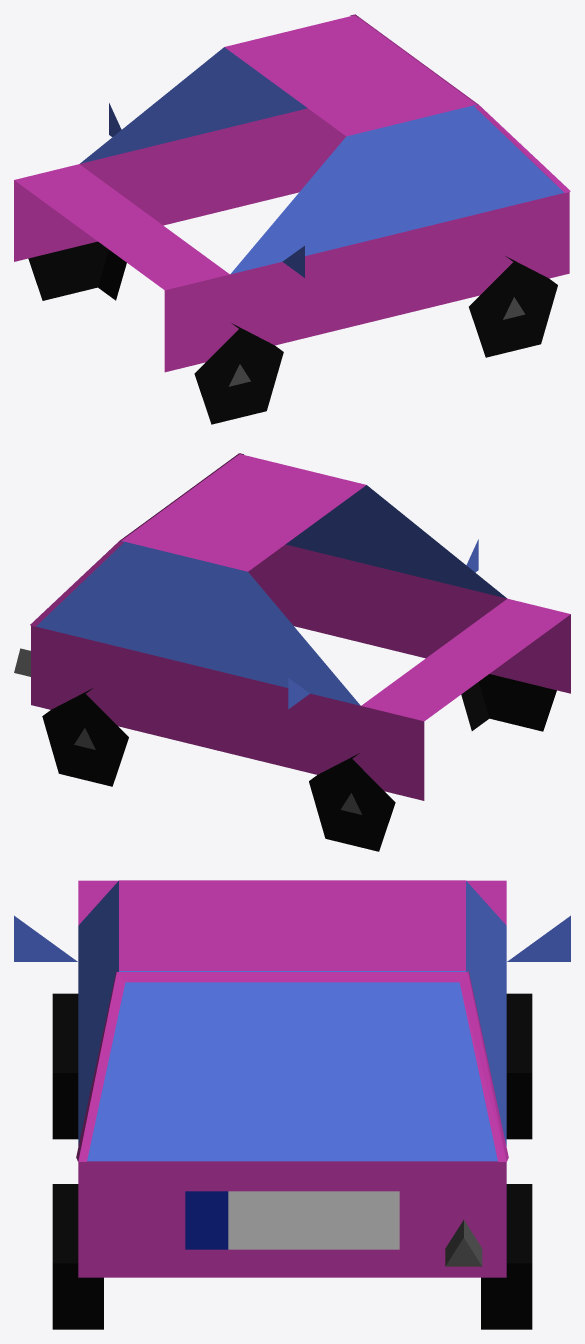
Rendered from vehicle.obj.
3 views of the same model, one above another, from view 1: azimuth 30°, elevation 25°; view 2: azimuth 150°, elevation 25°; view 3: azimuth 270°, elevation 25° (orthographic). The views are drawn at different scales.
Visible parts, largest first — view 1: car, window, Cylinder, Cylinder.001, car.003, Plane; view 2: car, window, Cylinder.001, Cylinder, car.003, Plane; view 3: window, car, car.002, Cylinder, Cylinder.001, car.003, Plane, car.001, Cylinder.002.
Boxes of the visible parts, x1,y1,x2,y2 form: car: (14, 15, 569, 372); window: (80, 47, 564, 274); Cylinder: (194, 256, 557, 424); Cylinder.001: (28, 241, 126, 300); car.003: (350, 14, 570, 193); Plane: (109, 103, 304, 277); car: (31, 454, 570, 800); window: (36, 485, 506, 705); Cylinder.001: (42, 688, 395, 851); Cylinder: (461, 674, 556, 731); car.003: (30, 453, 243, 626); Plane: (288, 539, 478, 709); window: (78, 881, 506, 1161); car: (78, 880, 506, 1277); car.002: (228, 1191, 399, 1249); Cylinder: (52, 993, 103, 1329); Cylinder.001: (481, 993, 532, 1329); car.003: (76, 970, 508, 1161); Plane: (14, 915, 570, 961); car.001: (185, 1191, 228, 1249); Cylinder.002: (445, 1220, 482, 1266).
Bounding box in the file's own units: 0.33 × 0.1701 × 0.26.
